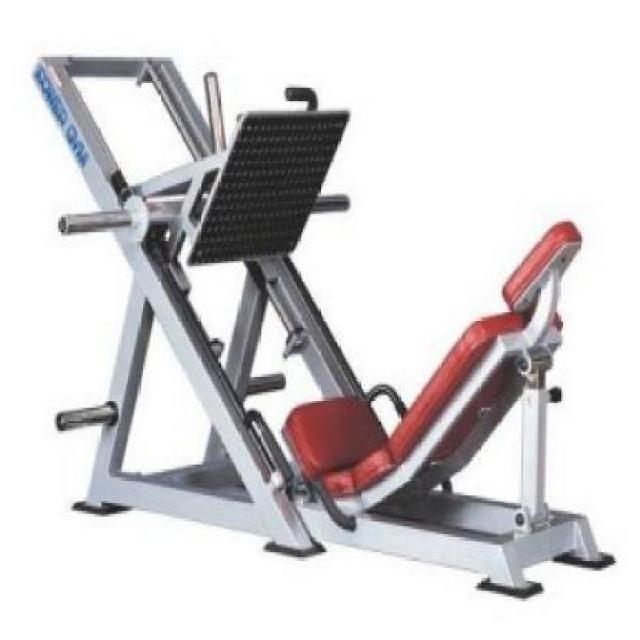leg press: (18, 26, 640, 617)
